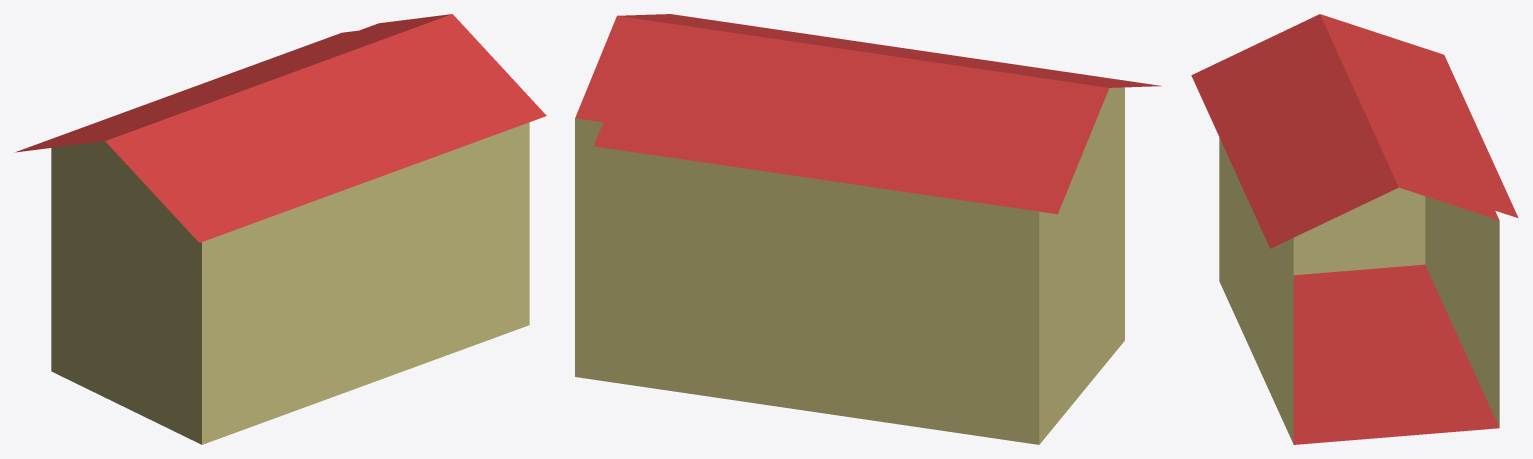
3 views of the same model, side by side, from view 1: azimuth 30°, elevation 25°; view 2: azimuth 150°, elevation 25°; view 3: azimuth 270°, elevation 25° (orthographic). The views are drawn at different scales.
Size of the model in its own units: 14.36 by 10.24 by 8.58.
